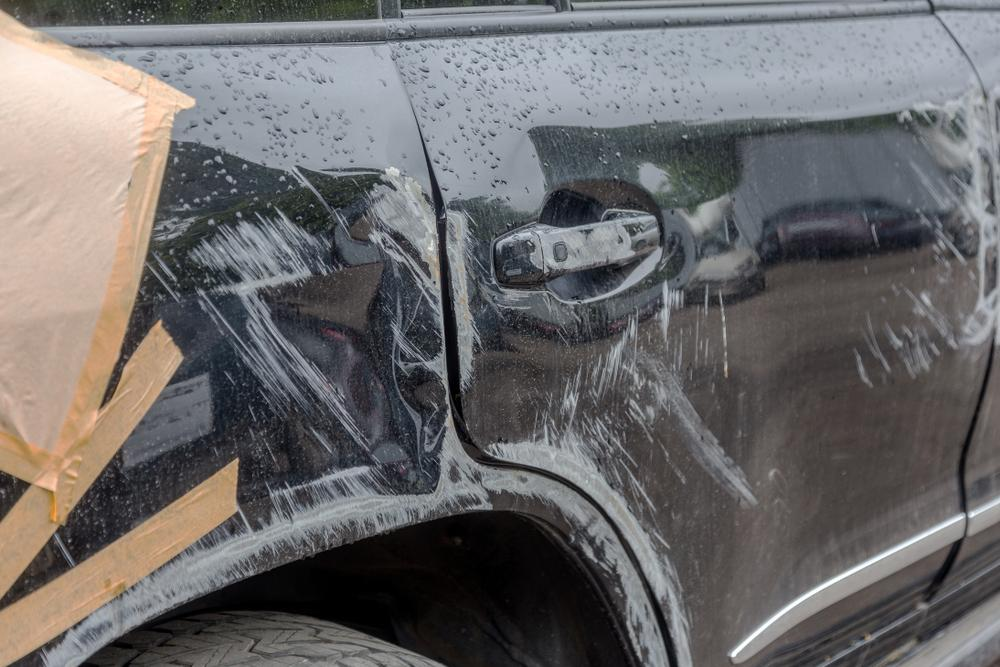dent: (253, 206, 388, 451)
scratch: (36, 166, 670, 667), (488, 272, 762, 667), (840, 75, 1000, 404), (445, 208, 555, 400), (518, 220, 634, 272)
